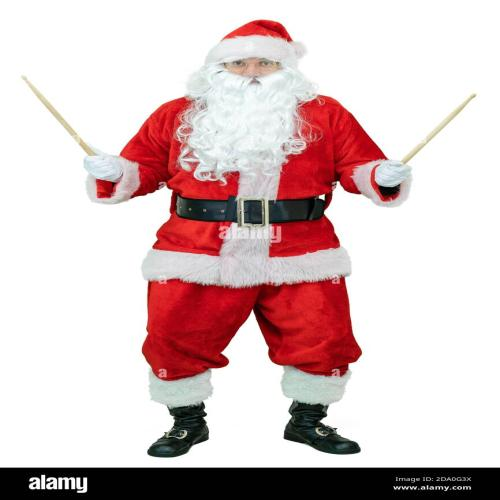Santa: (80, 19, 414, 458)
